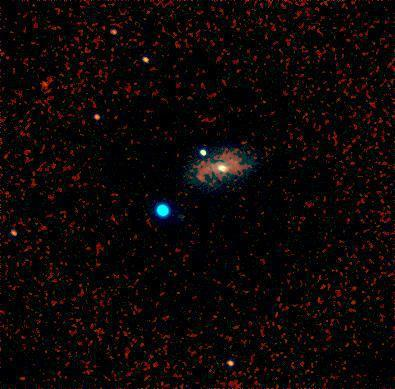star: (29, 65, 59, 95)
